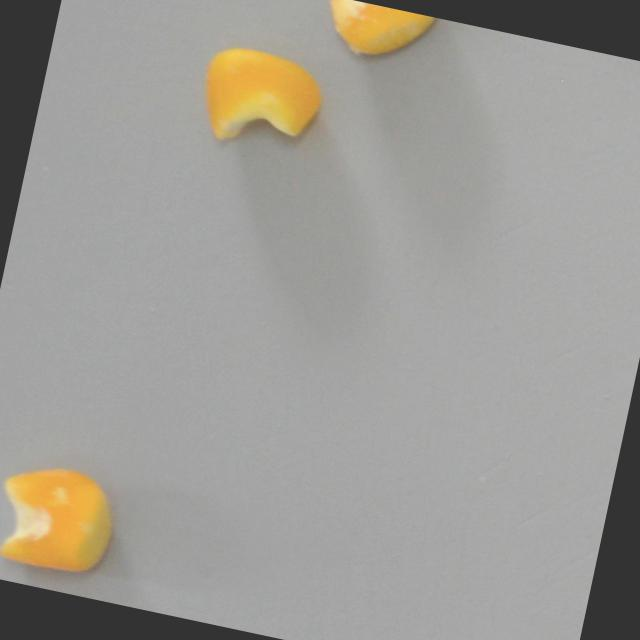no_canjicado: (192, 38, 330, 160), (0, 456, 123, 580)
pelicula: (314, 0, 436, 69)
